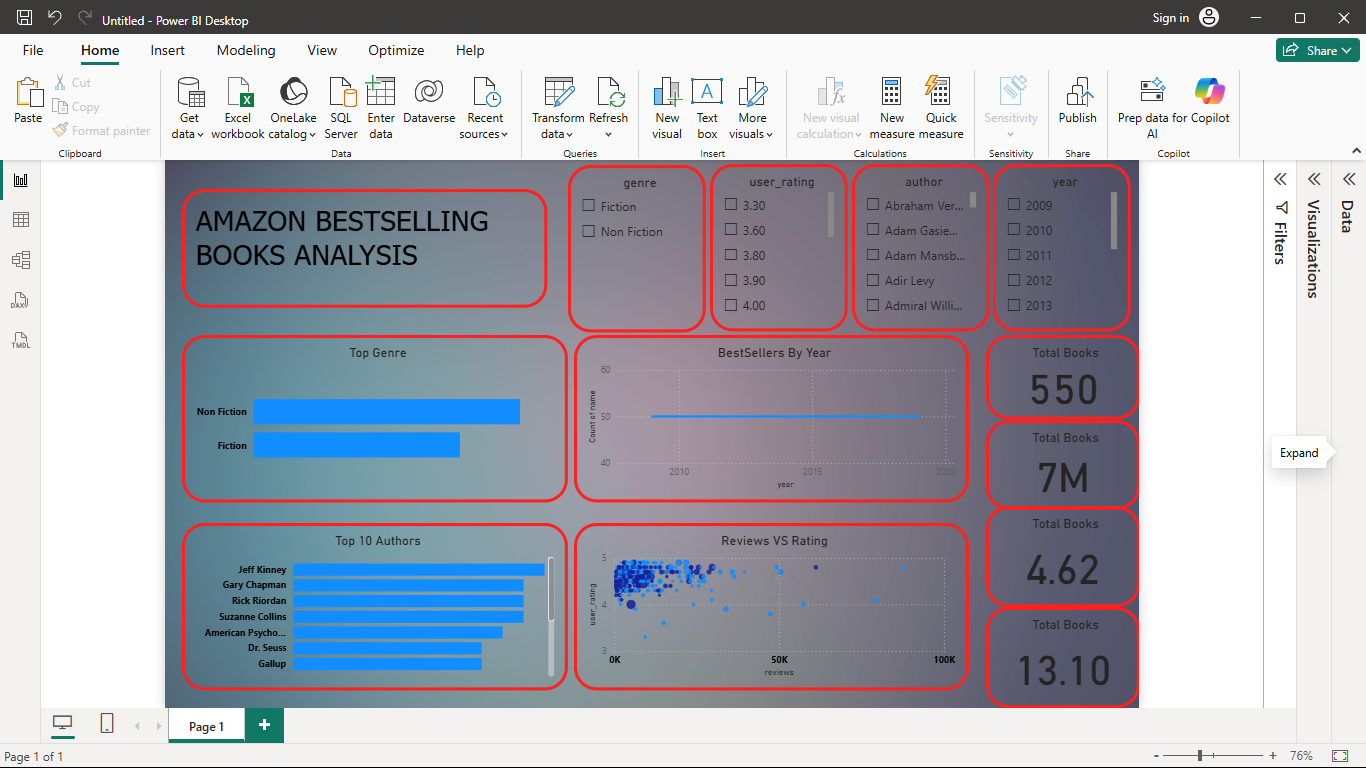

The dashboard page shown, as its layout file describes it:
{"tool":"powerbi","page":{"name":"Page 1","canvas":[1280,720],"ordinal":0},"visuals":[{"type":"card","title":"Total Books","fields":{"Values":["Amazon_Books_Cleaned_&_transformed_data.name"]},"box":[1078.4,230.1,201.6,110.9],"z":0},{"type":"card","title":"Total Books","fields":{"Values":["Amazon_Books_Cleaned_&_transformed_data.user_rating"]},"box":[1078.4,455.2,201.6,132.7],"z":1},{"type":"card","title":"Total Books","fields":{"Values":["Amazon_Books_Cleaned_&_transformed_data.price"]},"box":[1078.4,587.3,201.6,132.7],"z":2},{"type":"card","title":"Total Books","fields":{"Values":["Amazon_Books_Cleaned_&_transformed_data.reviews"]},"box":[1078.4,341,201.6,117.6],"z":3},{"type":"barChart","title":"Top Genre","fields":{"Category":["Amazon_Books_Cleaned_&_transformed_data.genre"],"Y":["Amazon_Books_Cleaned_&_transformed_data.name"]},"box":[21.8,230.1,507.3,220.1],"z":4},{"type":"barChart","title":"Top 10 Authors","fields":{"Category":["Amazon_Books_Cleaned_&_transformed_data.author"],"Y":["Amazon_Books_Cleaned_&_transformed_data.name"]},"box":[21.8,477.1,507.3,220.1],"z":5},{"type":"scatterChart","title":"Reviews VS Rating","fields":{"X":["Amazon_Books_Cleaned_&_transformed_data.reviews"],"Y":["Amazon_Books_Cleaned_&_transformed_data.user_rating"],"Series":["Amazon_Books_Cleaned_&_transformed_data.genre"],"Size":["Amazon_Books_Cleaned_&_transformed_data.price"]},"box":[537.5,477.1,519.1,220.1],"z":6},{"type":"lineChart","title":"BestSellers By Year","fields":{"Y":["Amazon_Books_Cleaned_&_transformed_data.name"],"Category":["Amazon_Books_Cleaned_&_transformed_data.year"]},"box":[537.5,230.1,519.1,220.1],"z":7},{"type":"listSlicer","fields":{"Values":["Amazon_Books_Cleaned_&_transformed_data.genre"]},"box":[529.1,6.7,181.4,220.1],"z":8},{"type":"listSlicer","fields":{"Values":["Amazon_Books_Cleaned_&_transformed_data.user_rating"]},"box":[715.6,5,181.4,220.1],"z":9},{"type":"listSlicer","fields":{"Values":["Amazon_Books_Cleaned_&_transformed_data.year"]},"box":[1088.5,5,181.4,220.1],"z":10},{"type":"listSlicer","fields":{"Values":["Amazon_Books_Cleaned_&_transformed_data.author"]},"box":[902,5,181.4,220.1],"z":11},{"type":"textbox","box":[21.8,38.6,480.4,156.2],"z":12}]}

Visuals, with their boxes on the page's 1280x720 design canvas (x1, y1, x2, y2). These are canvas units, not pixel positions in the 1366x768 screenshot, which may show the page scaled, cropped or inside an application window:
"Total Books" card: rect(1078, 230, 1280, 341)
"Total Books" card: rect(1078, 455, 1280, 588)
"Total Books" card: rect(1078, 587, 1280, 720)
"Total Books" card: rect(1078, 341, 1280, 459)
"Top Genre" barChart: rect(22, 230, 529, 450)
"Top 10 Authors" barChart: rect(22, 477, 529, 697)
"Reviews VS Rating" scatterChart: rect(538, 477, 1057, 697)
"BestSellers By Year" lineChart: rect(538, 230, 1057, 450)
listSlicer - Amazon_Books_Cleaned_&_transformed_data.genre: rect(529, 7, 710, 227)
listSlicer - Amazon_Books_Cleaned_&_transformed_data.user_rating: rect(716, 5, 897, 225)
listSlicer - Amazon_Books_Cleaned_&_transformed_data.year: rect(1088, 5, 1270, 225)
listSlicer - Amazon_Books_Cleaned_&_transformed_data.author: rect(902, 5, 1083, 225)
textbox: rect(22, 39, 502, 195)
